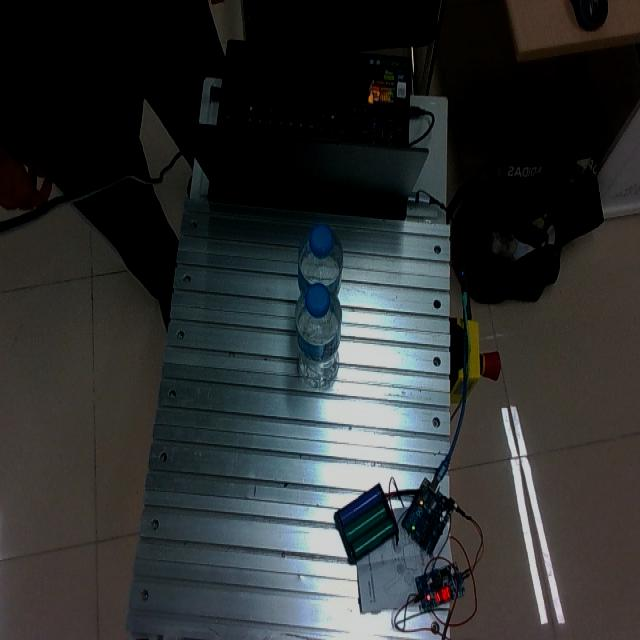lavie: (295, 280, 342, 387), (297, 224, 344, 300)
